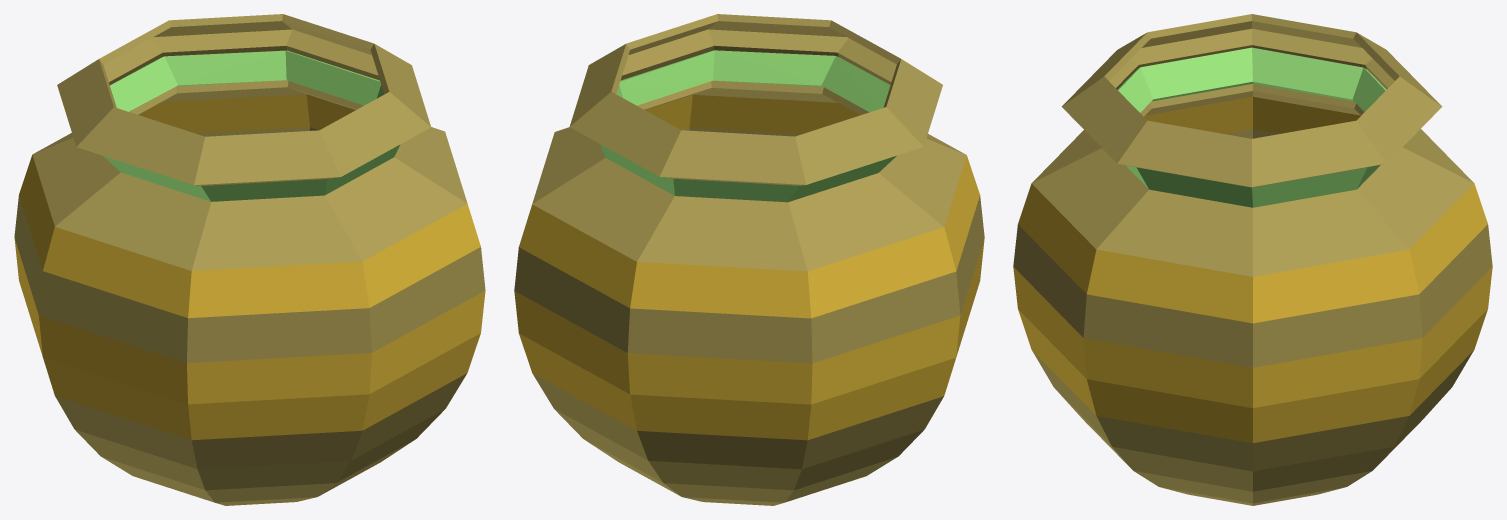
File: SL_Vase4.fbx
The picture shows the model from 3 angles, left to right: view 1: azimuth 30°, elevation 25°; view 2: azimuth 150°, elevation 25°; view 3: azimuth 270°, elevation 25°; orthographic projection.
Parts seen in each view (by area): view 1: Jarron3; view 2: Jarron3; view 3: Jarron3.
Boxes of the visible parts, x1,y1,x2,y2 form: Jarron3: (14,14,485,505); Jarron3: (514,14,984,505); Jarron3: (1013,14,1492,505).
Size of the model in its own units: 149 by 133 by 149.
